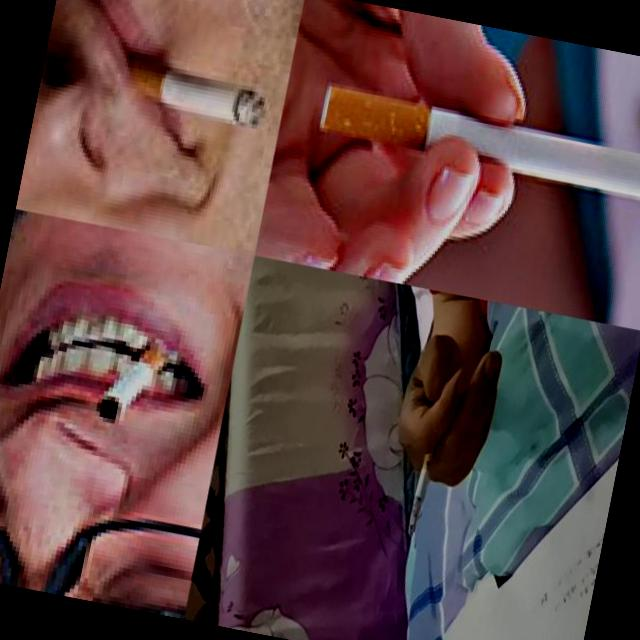smoke: (316, 82, 640, 205), (116, 54, 274, 134), (89, 347, 180, 442), (404, 427, 440, 540)
